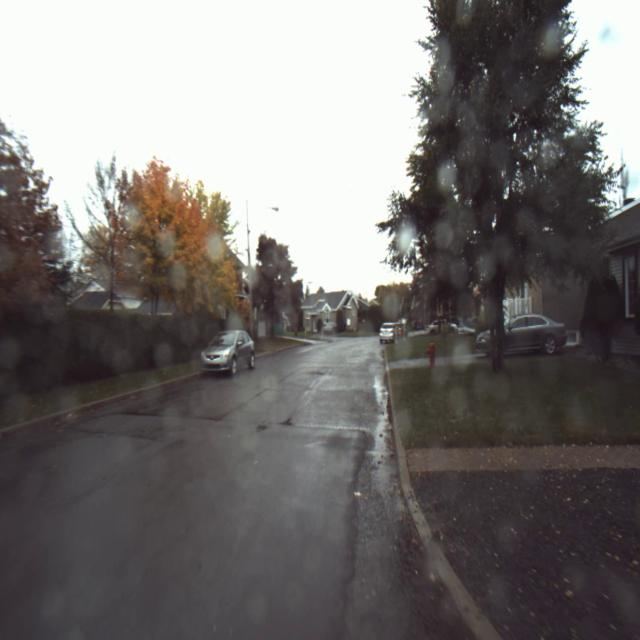car: (195, 315, 260, 380)
